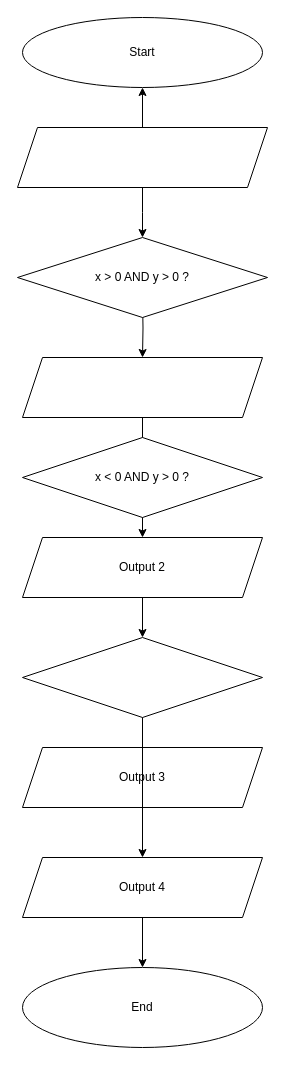
This 285x1065 diagram has some shape labels left out. The centre of each missing label's shape, as x and y in pixels:
Input x, y: point (142, 157)
Output 1: point (142, 387)
x < 0 AND y < 0 ?: point (142, 677)
